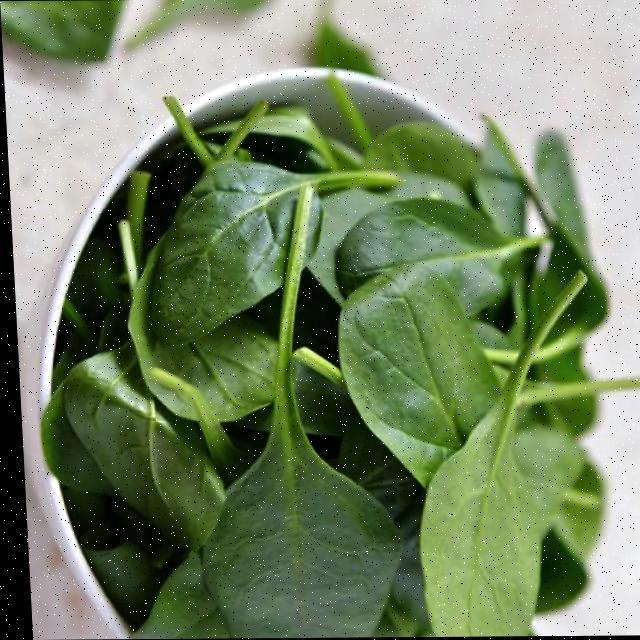Spinach: (37, 92, 617, 640)
